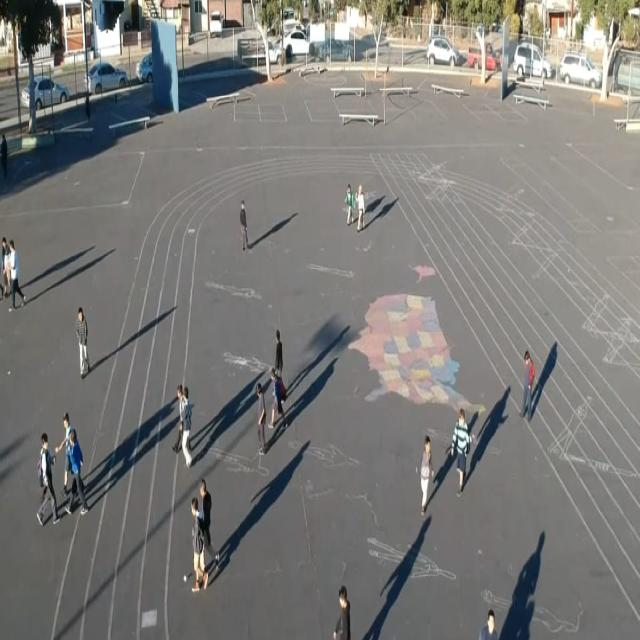humans: (36, 427, 61, 529), (198, 471, 222, 575), (190, 491, 212, 594), (66, 427, 88, 518), (451, 403, 474, 490), (520, 342, 540, 427), (8, 236, 27, 312), (420, 430, 436, 519), (180, 382, 196, 466), (254, 378, 270, 461), (76, 301, 92, 382), (334, 576, 354, 640), (270, 362, 288, 430), (173, 381, 185, 457), (61, 406, 72, 484), (354, 177, 369, 234), (480, 601, 500, 640), (239, 195, 251, 258), (343, 177, 356, 230), (0, 236, 11, 295), (274, 325, 286, 378)
